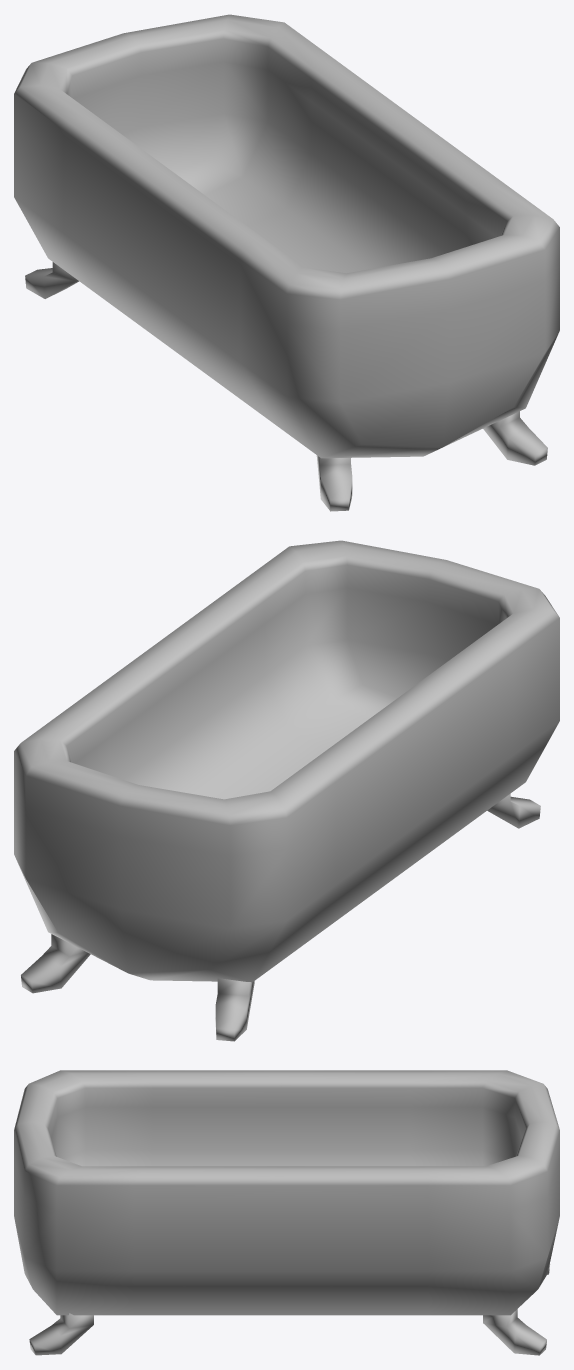
Rendered from bathtub.fbx.
3 renders of one model, top to bottom at view 1: azimuth 30°, elevation 25°; view 2: azimuth 150°, elevation 25°; view 3: azimuth 270°, elevation 25°, orthographic. The views are drawn at different scales.
Visible parts, largest first — view 1: polySurface577; view 2: polySurface577; view 3: polySurface577.
Boxes of the visible parts, x1,y1,x2,y2 form: polySurface577: (14,14,559,511); polySurface577: (14,540,559,1041); polySurface577: (14,1070,559,1355).
Size of the model in its own units: 1.08 by 0.8583 by 2.25.
Materials: 1 (1 with a texture image).
